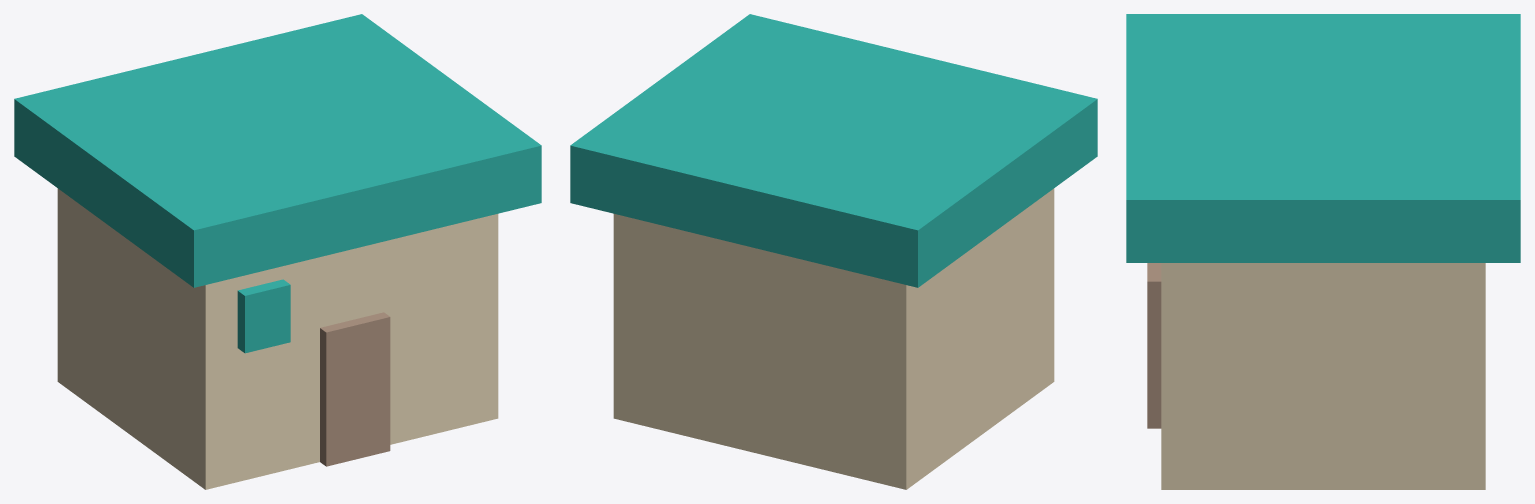
File: workshop.gltf
3 renders of one model, left to right at view 1: azimuth 30°, elevation 25°; view 2: azimuth 150°, elevation 25°; view 3: azimuth 270°, elevation 25°, orthographic. The views are drawn at different scales.
Bounding box in the file's own units: 1.9 × 1.45 × 1.7.
